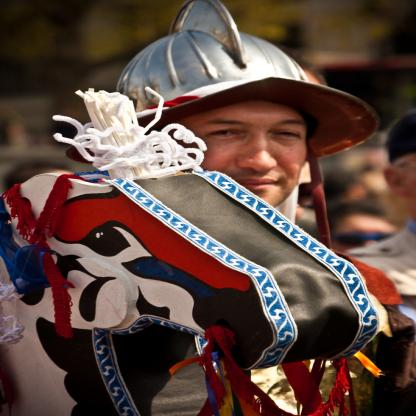Helmet: (63, 0, 376, 246)
